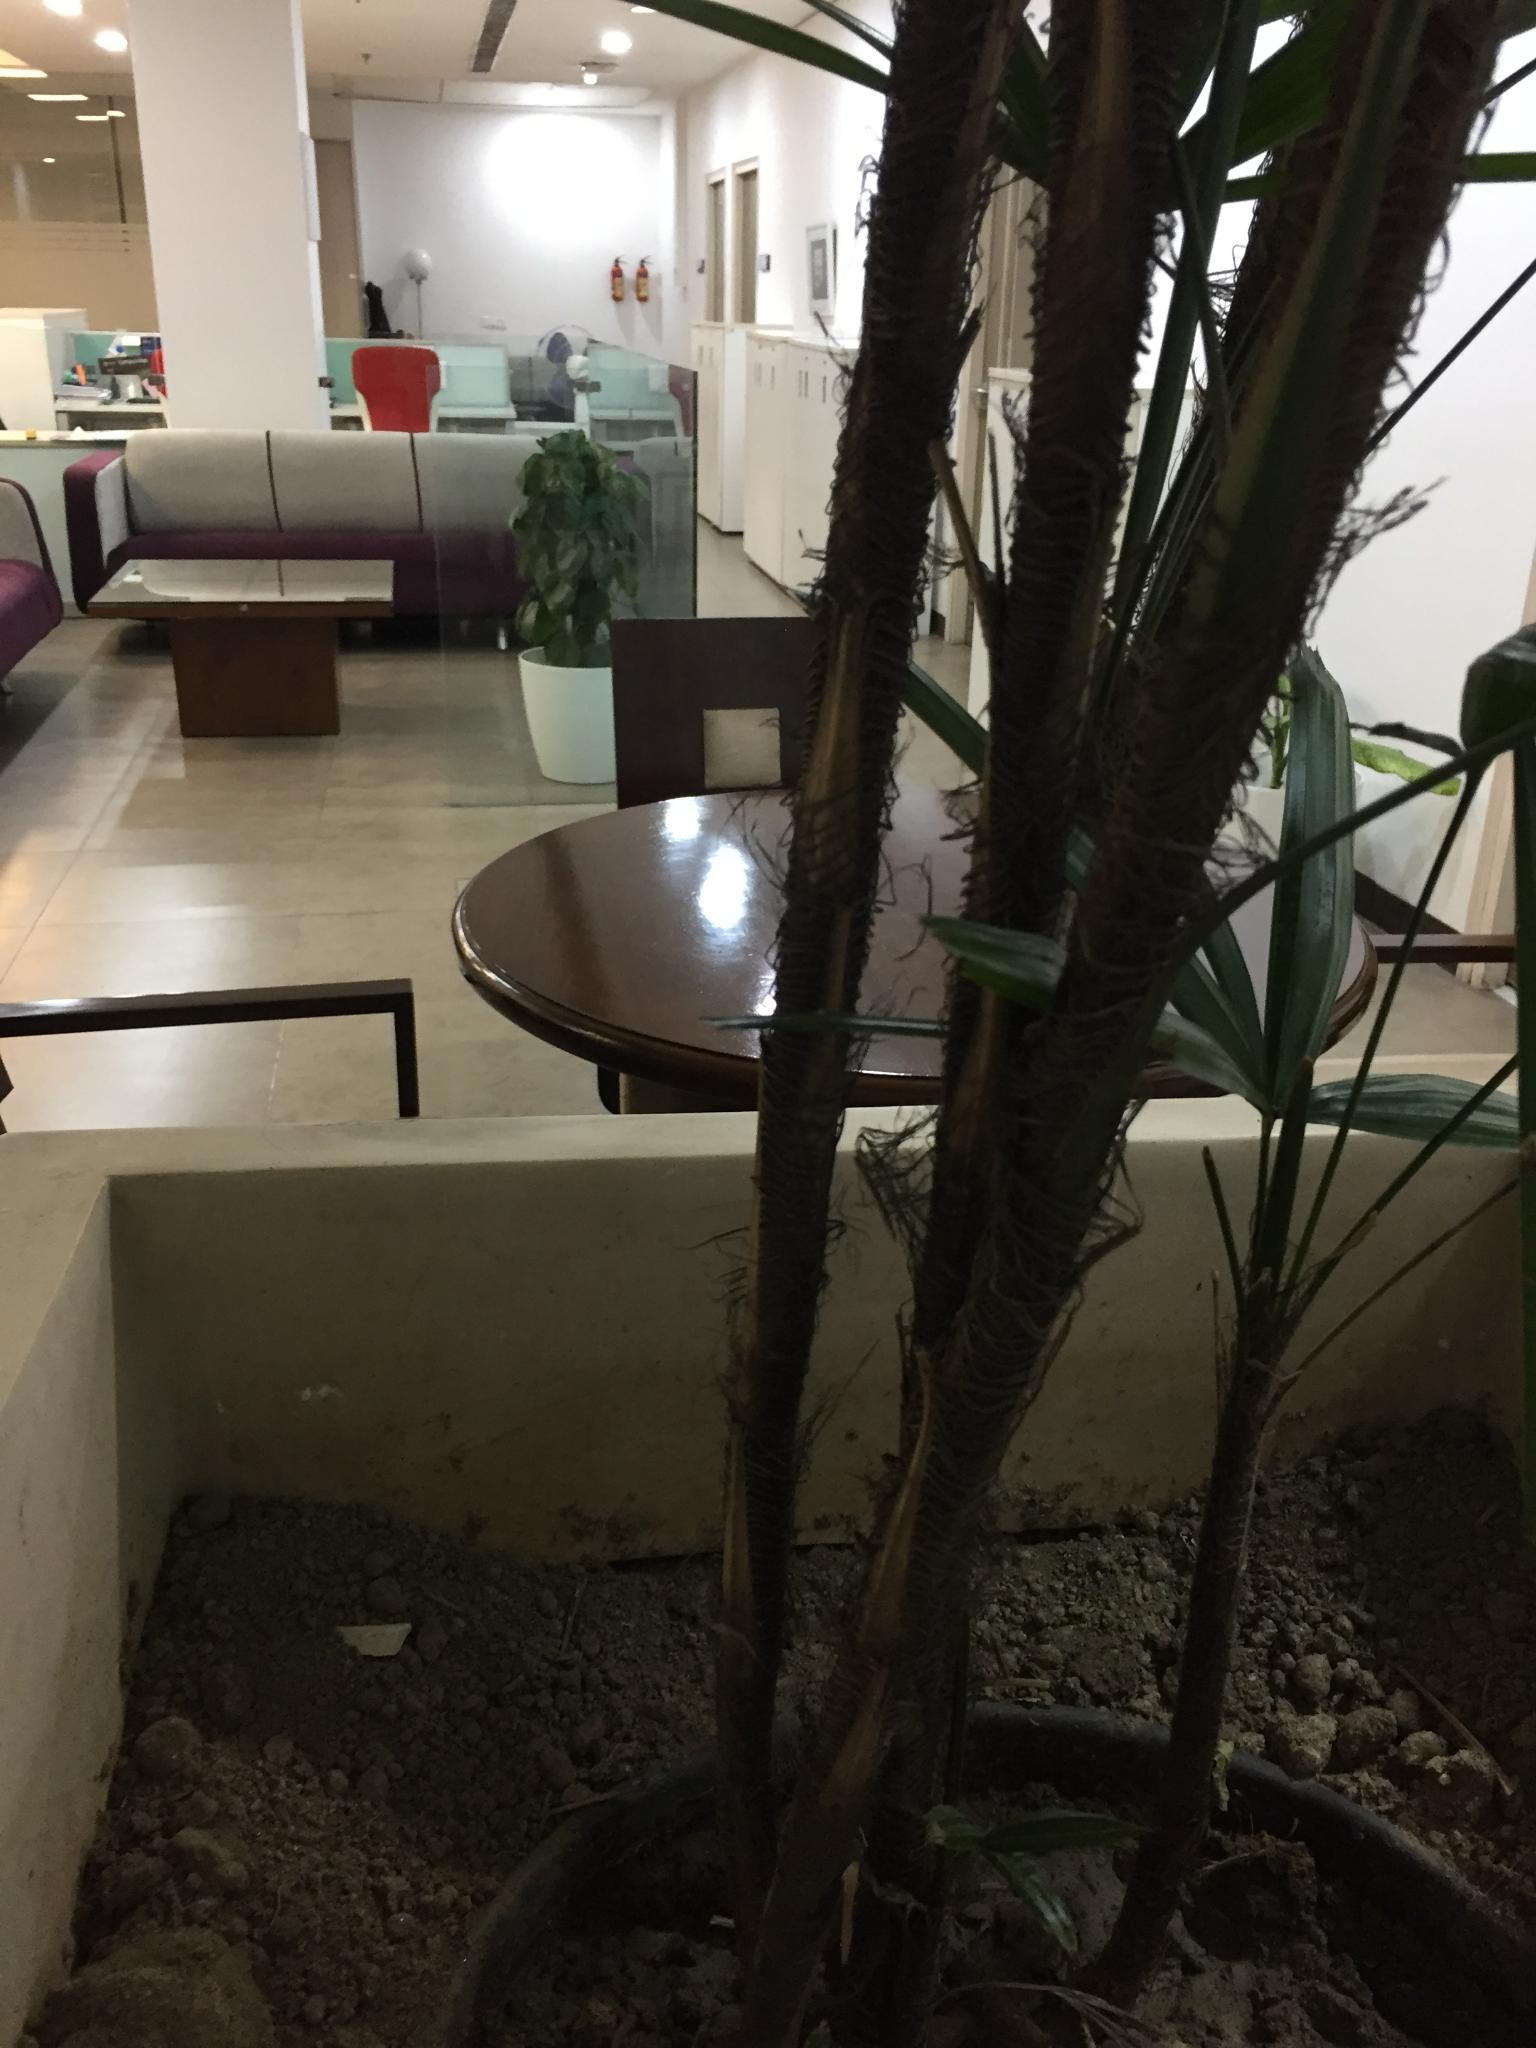chair: (0, 885, 495, 1564), (1244, 748, 1536, 1248), (623, 610, 860, 935)
